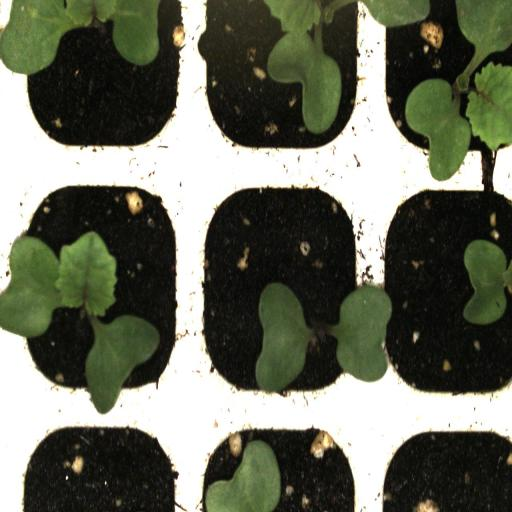Folha: (255, 282, 314, 392), (330, 283, 392, 382), (205, 439, 281, 512), (463, 239, 512, 325)
Germinacao: (8, 164, 194, 408), (190, 167, 372, 407), (193, 4, 373, 164), (11, 0, 191, 159), (376, 0, 512, 167)
